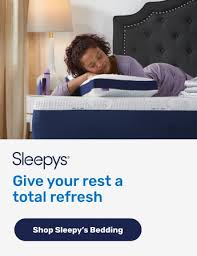bed-matress: (25, 82, 197, 141)
